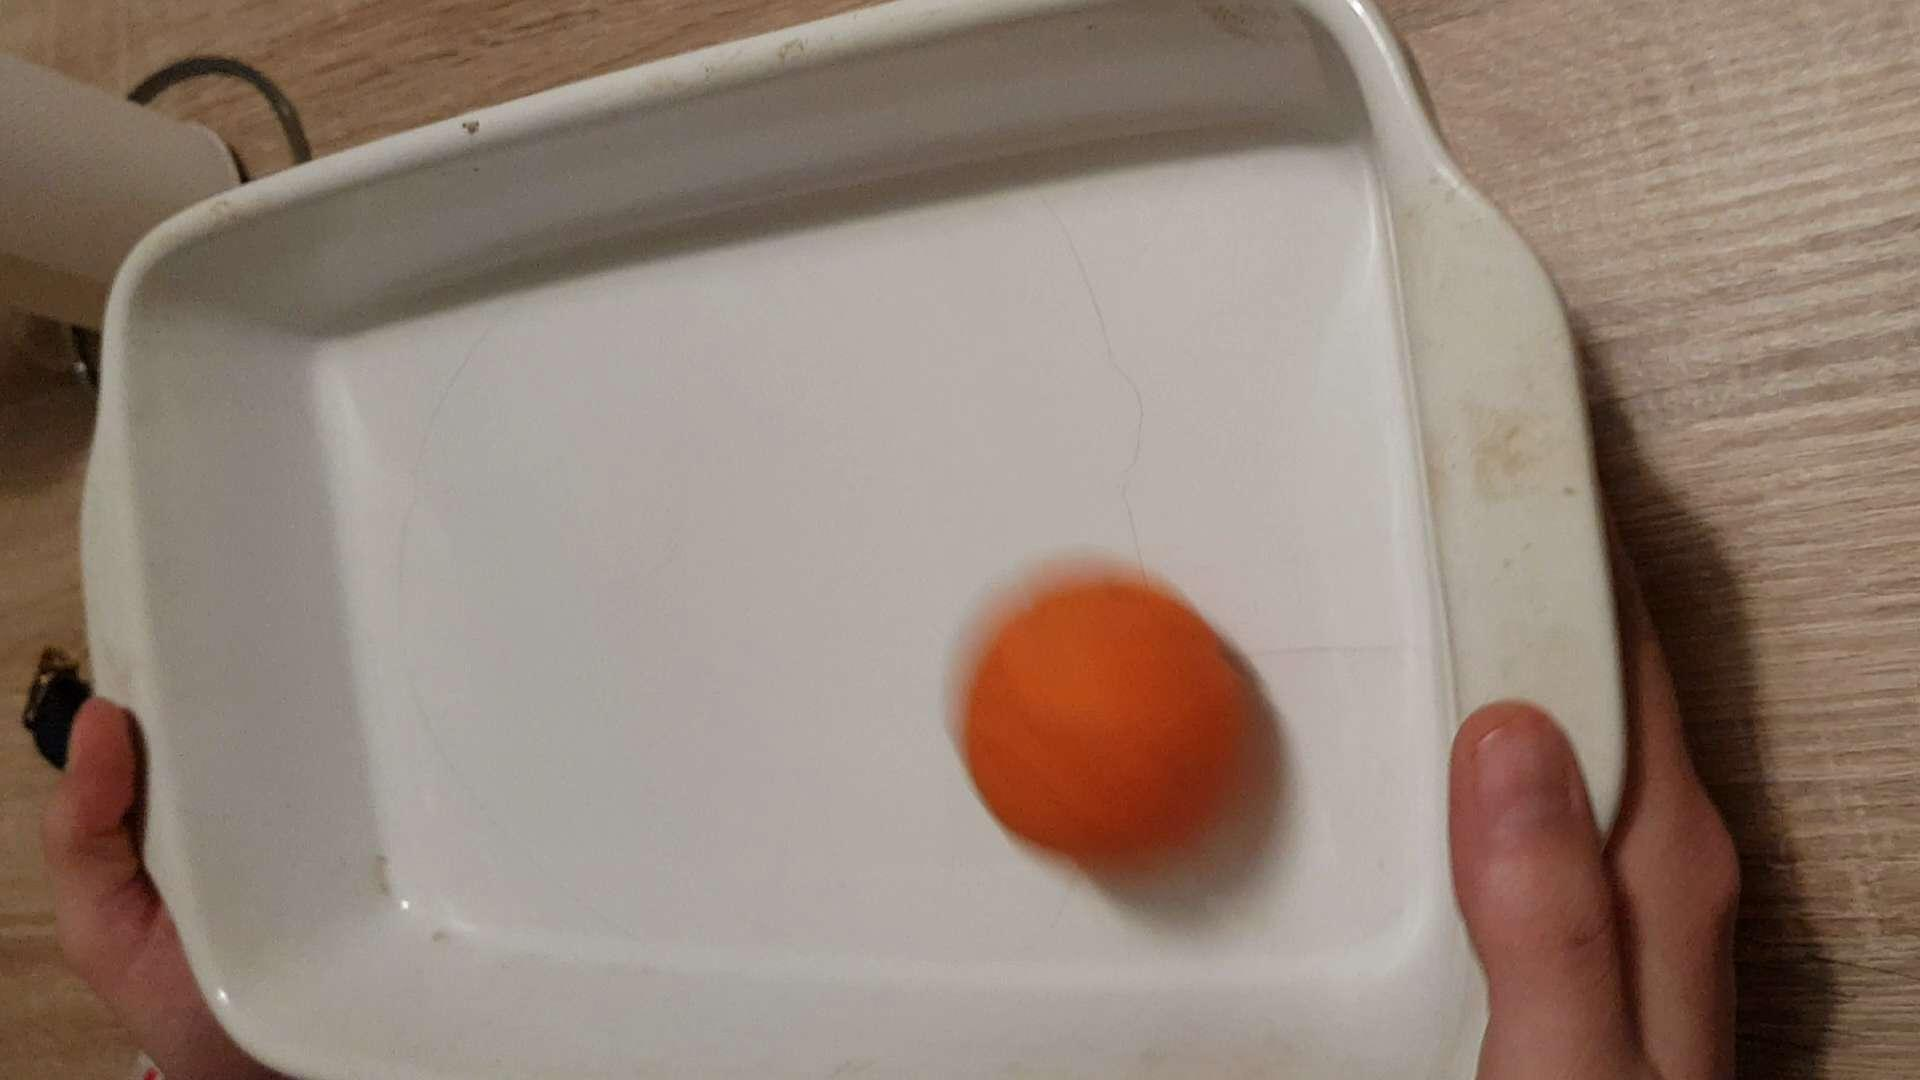sphere: (945, 571, 1251, 874)
